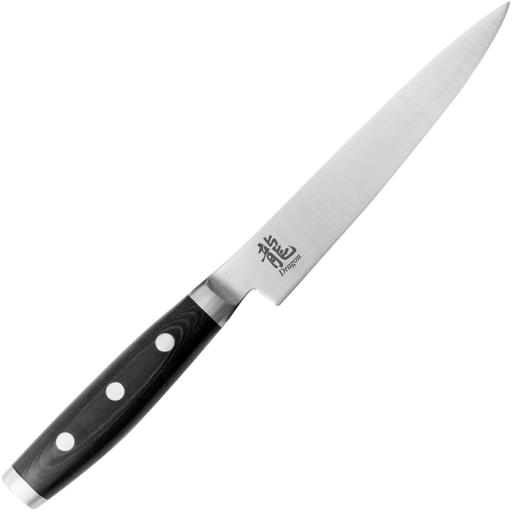knife: (5, 0, 511, 509)
